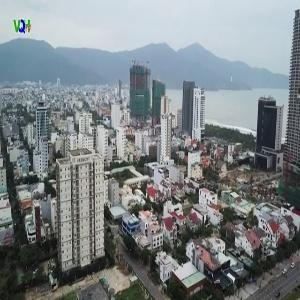drone: (213, 133, 274, 194)
